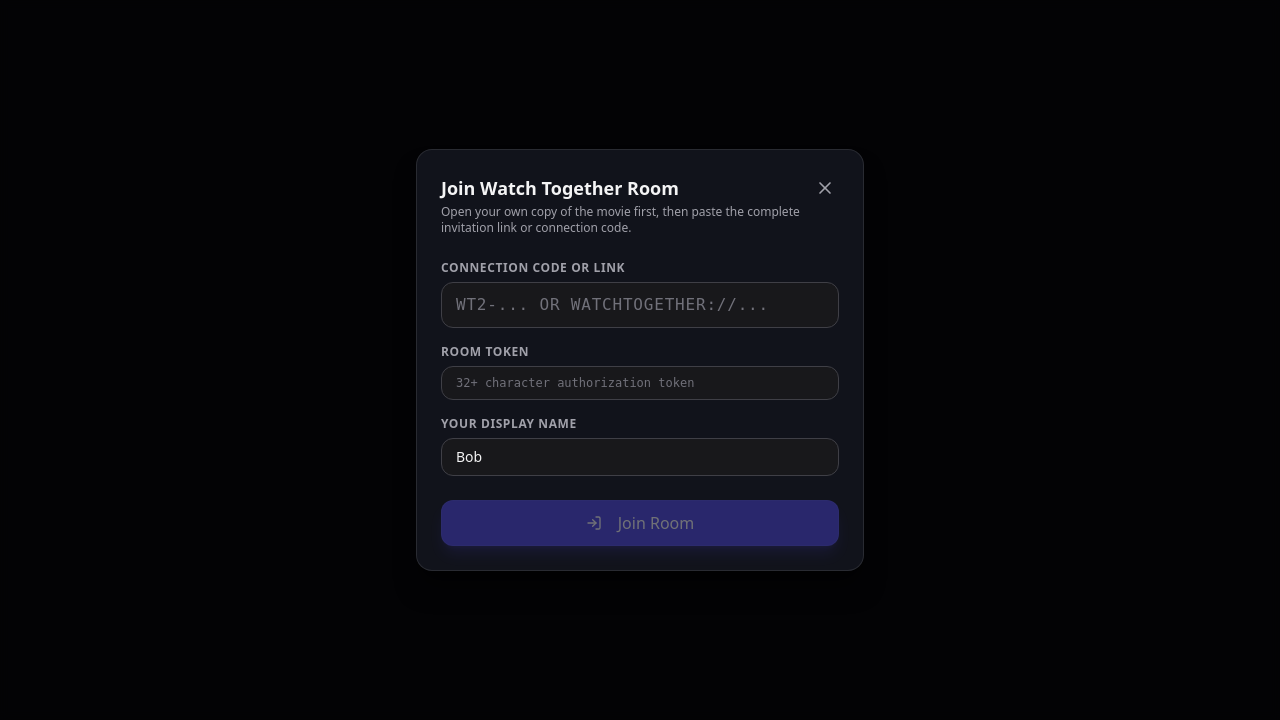
Room Collaboration UI Modals › JoinRoomModal › warns when forbidden Crockford characters are typed
This screenshot has width=1280, height=720.
In the field with test id "room-code-input": (640, 305) left=441, top=282, right=839, bottom=328, type "K7M2P0"
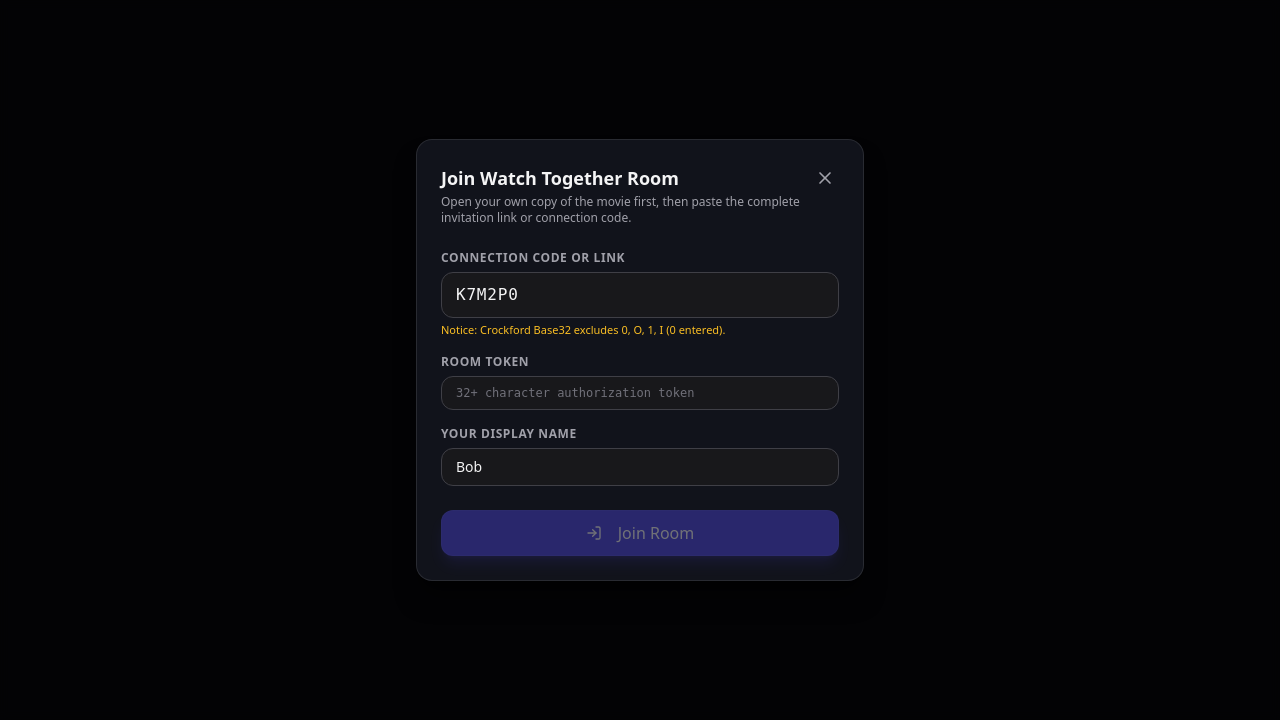
Result: the text "Notice: Crockford Base32 excludes 0, O, 1, I (0 entered)." is shown at left=441, top=322, right=725, bottom=337
